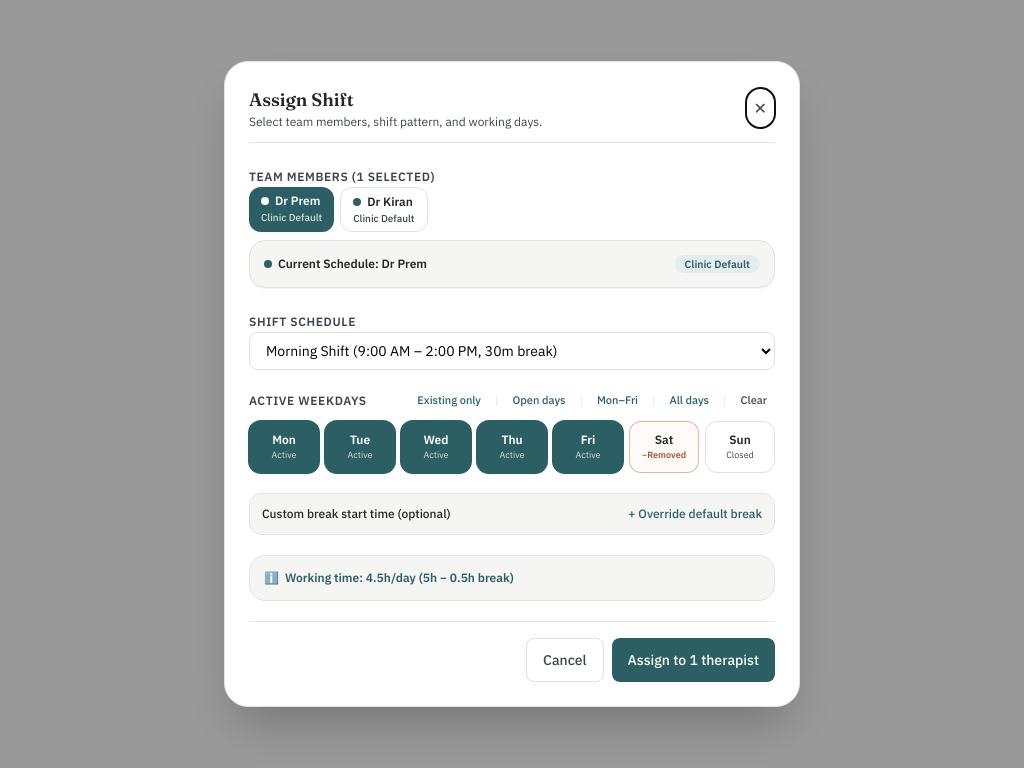
it: AssignShiftDialog › custom hours option › selecting custom hours shows notice, Set custom hours button, and hides weekday checkboxes
The width and height of the screenshot is (1024, 768).
# Select Custom hours option
Select "Custom hours (individual)" in the dropdown. click: {"x": 512, "y": 351}
box: [249,332,775,370]
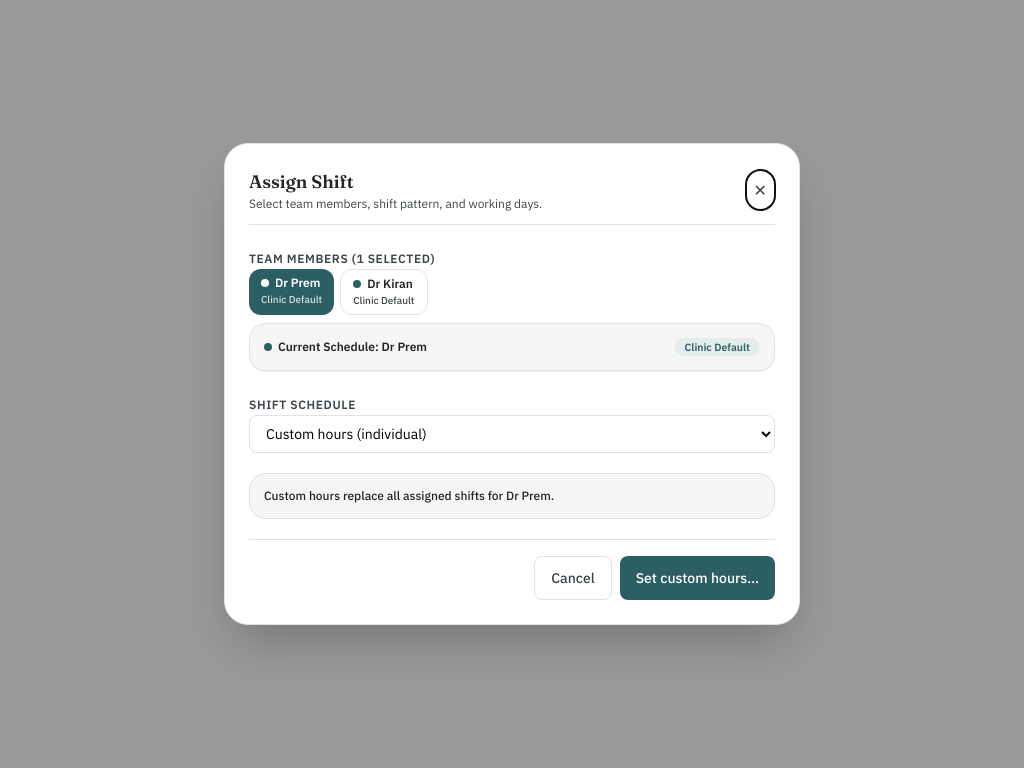
Expected: the text "Custom hours replace all assigned shifts for Dr Prem." is shown, [264,488,554,503]
Expected: the button "Set custom hours…" is shown, [620,556,775,600]
Expected: the button "Assign to" is gone
